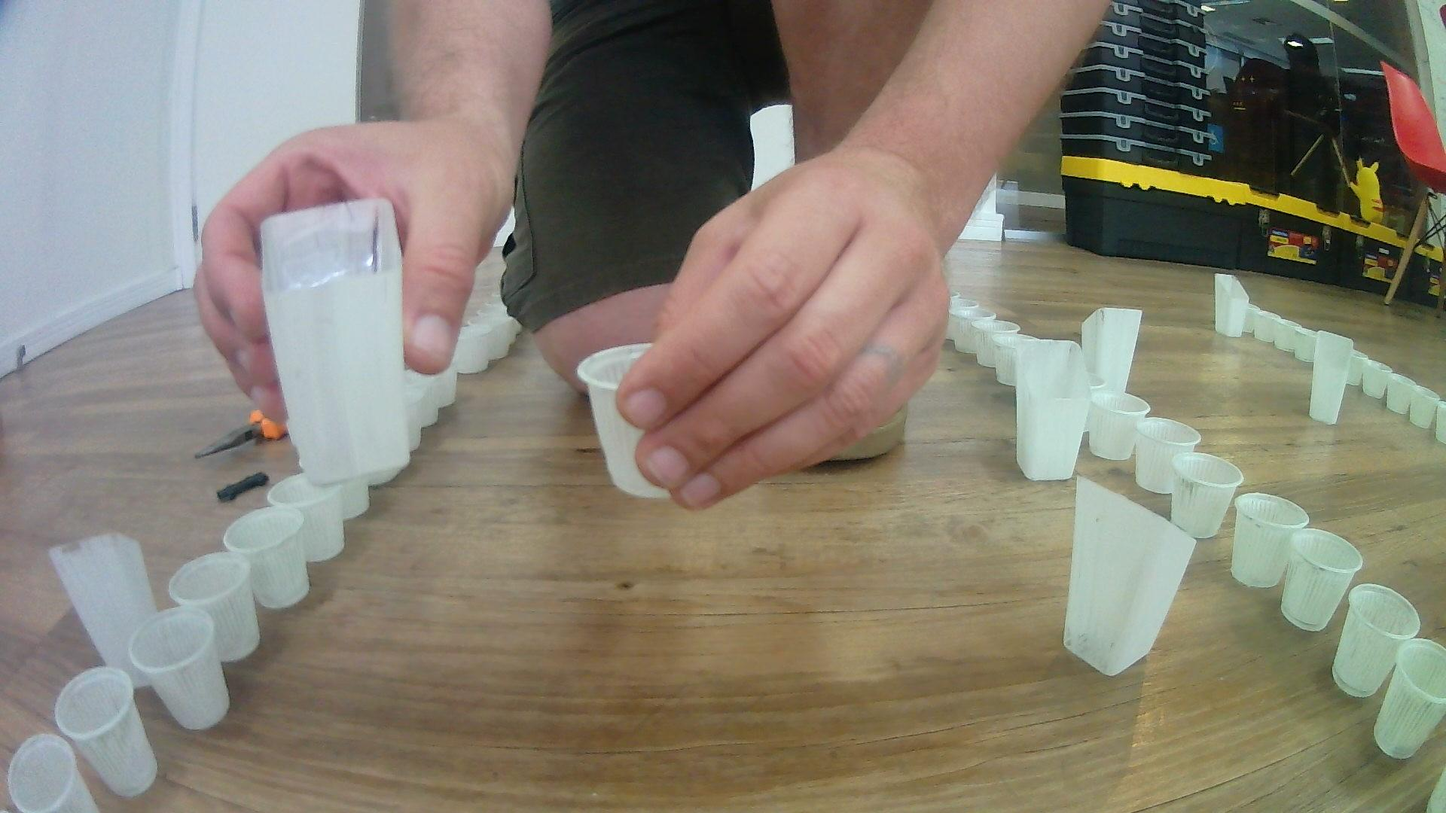erva_daninha: (259, 194, 411, 487), (1062, 474, 1198, 678), (47, 531, 159, 687), (1014, 337, 1096, 482), (1080, 306, 1142, 399), (1308, 329, 1356, 425), (1214, 273, 1249, 340)
planta: (577, 343, 676, 501), (55, 665, 159, 799), (128, 605, 231, 732), (167, 551, 261, 662), (1331, 583, 1420, 698), (222, 506, 311, 609), (1373, 637, 1446, 760), (1280, 528, 1363, 632), (5, 733, 102, 813), (1230, 492, 1310, 589), (267, 471, 346, 564), (1170, 452, 1245, 539), (1134, 417, 1203, 495), (1086, 391, 1151, 461), (994, 333, 1044, 386), (974, 320, 1023, 368), (954, 307, 997, 354), (404, 370, 438, 428), (423, 355, 457, 410), (469, 309, 506, 359), (454, 324, 490, 374), (947, 297, 980, 340), (336, 482, 370, 521), (1362, 361, 1393, 400), (1386, 373, 1416, 413), (1274, 318, 1302, 353), (493, 314, 523, 345), (405, 401, 422, 452), (1347, 350, 1371, 385), (1294, 329, 1318, 362), (1244, 304, 1268, 337), (1258, 311, 1282, 343), (1435, 400, 1446, 443)
